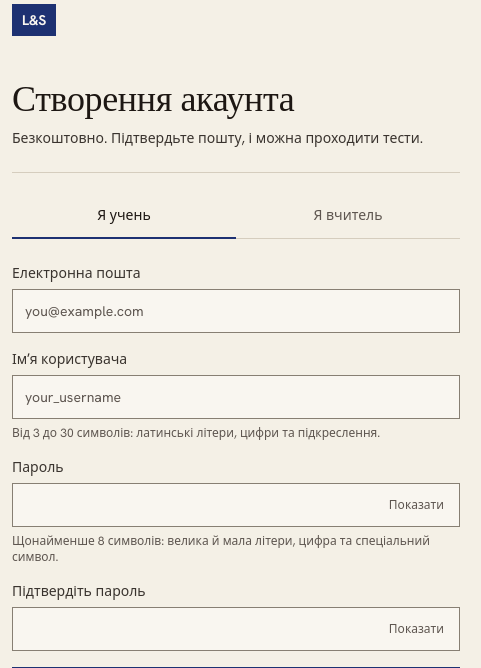
Test: RegisterPage › catches mismatched passwords before asking the server
The width and height of the screenshot is (481, 668).
Type "new@example.com" into the field labelled "Електронна пошта". click: (236, 311)
box: [12,289,460,333]
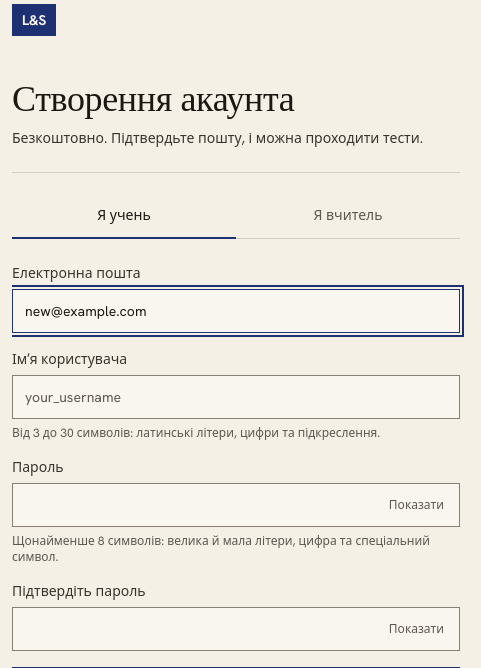
Type "oksana_k" into the field labelled "Імʼя користувача". click: (236, 397)
box: [12,375,460,419]
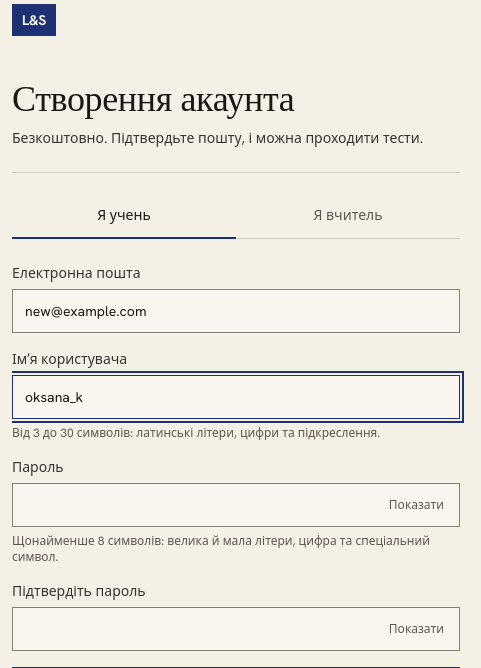
Type "ValidPass1!" into the password field labelled "Пароль". click: (236, 505)
box: [12,483,460,527]
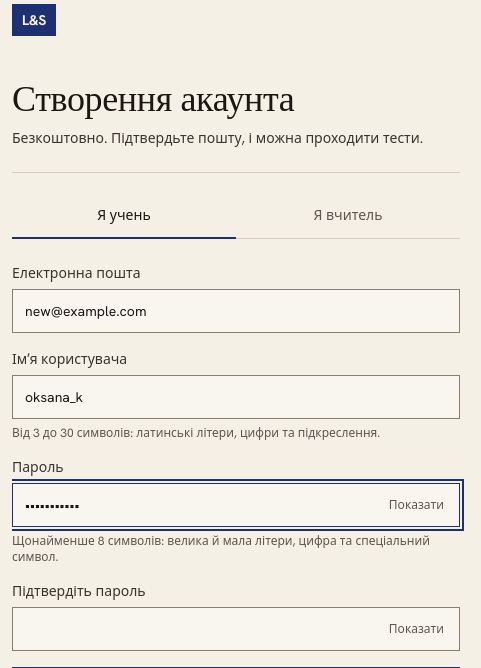
Type "OtherPass1!" into the password field labelled "Підтвердіть пароль". click: (236, 629)
box: [12,607,460,651]
(page scrolled)
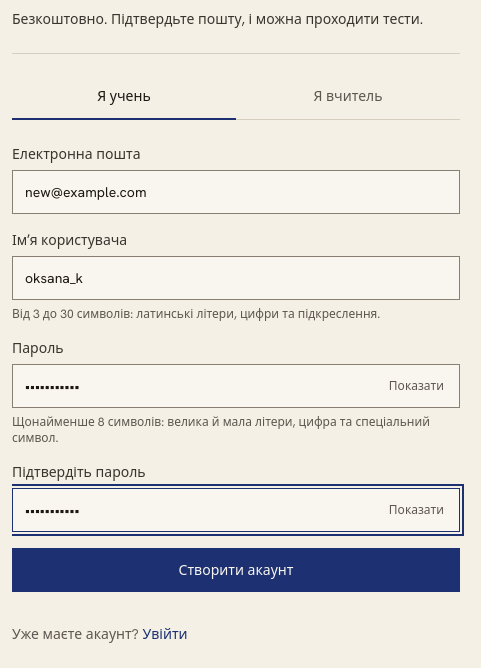
Click the button "Створити акаунт". click: (236, 570)
box: [12,548,460,592]
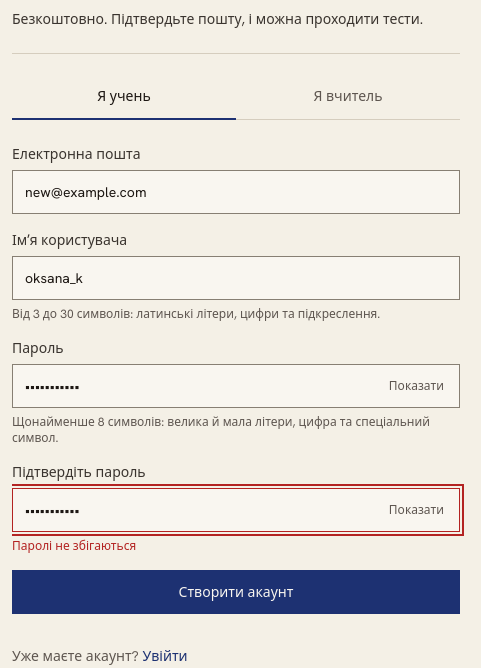
Result: the text "Паролі не збігаються" is shown at [12,538,136,554]
